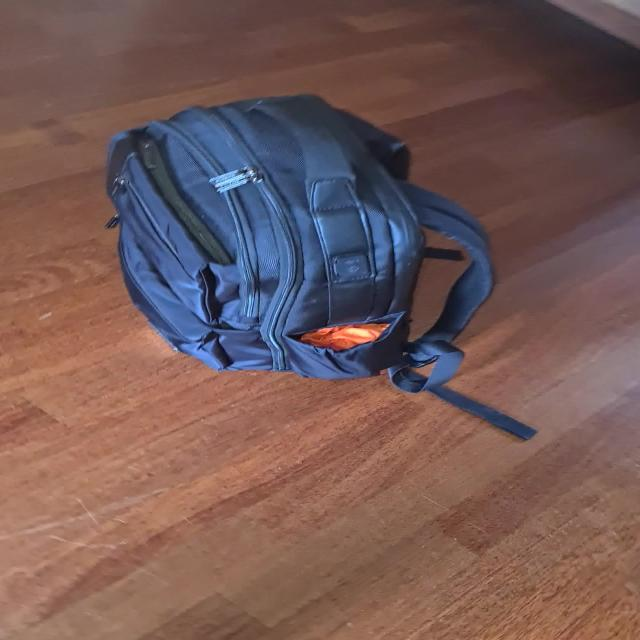backpack: (94, 81, 503, 386)
